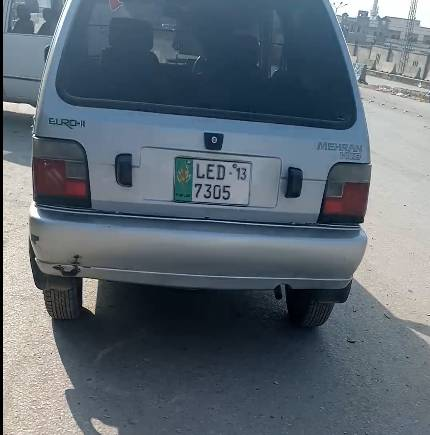number_plate: (171, 155, 256, 212)
